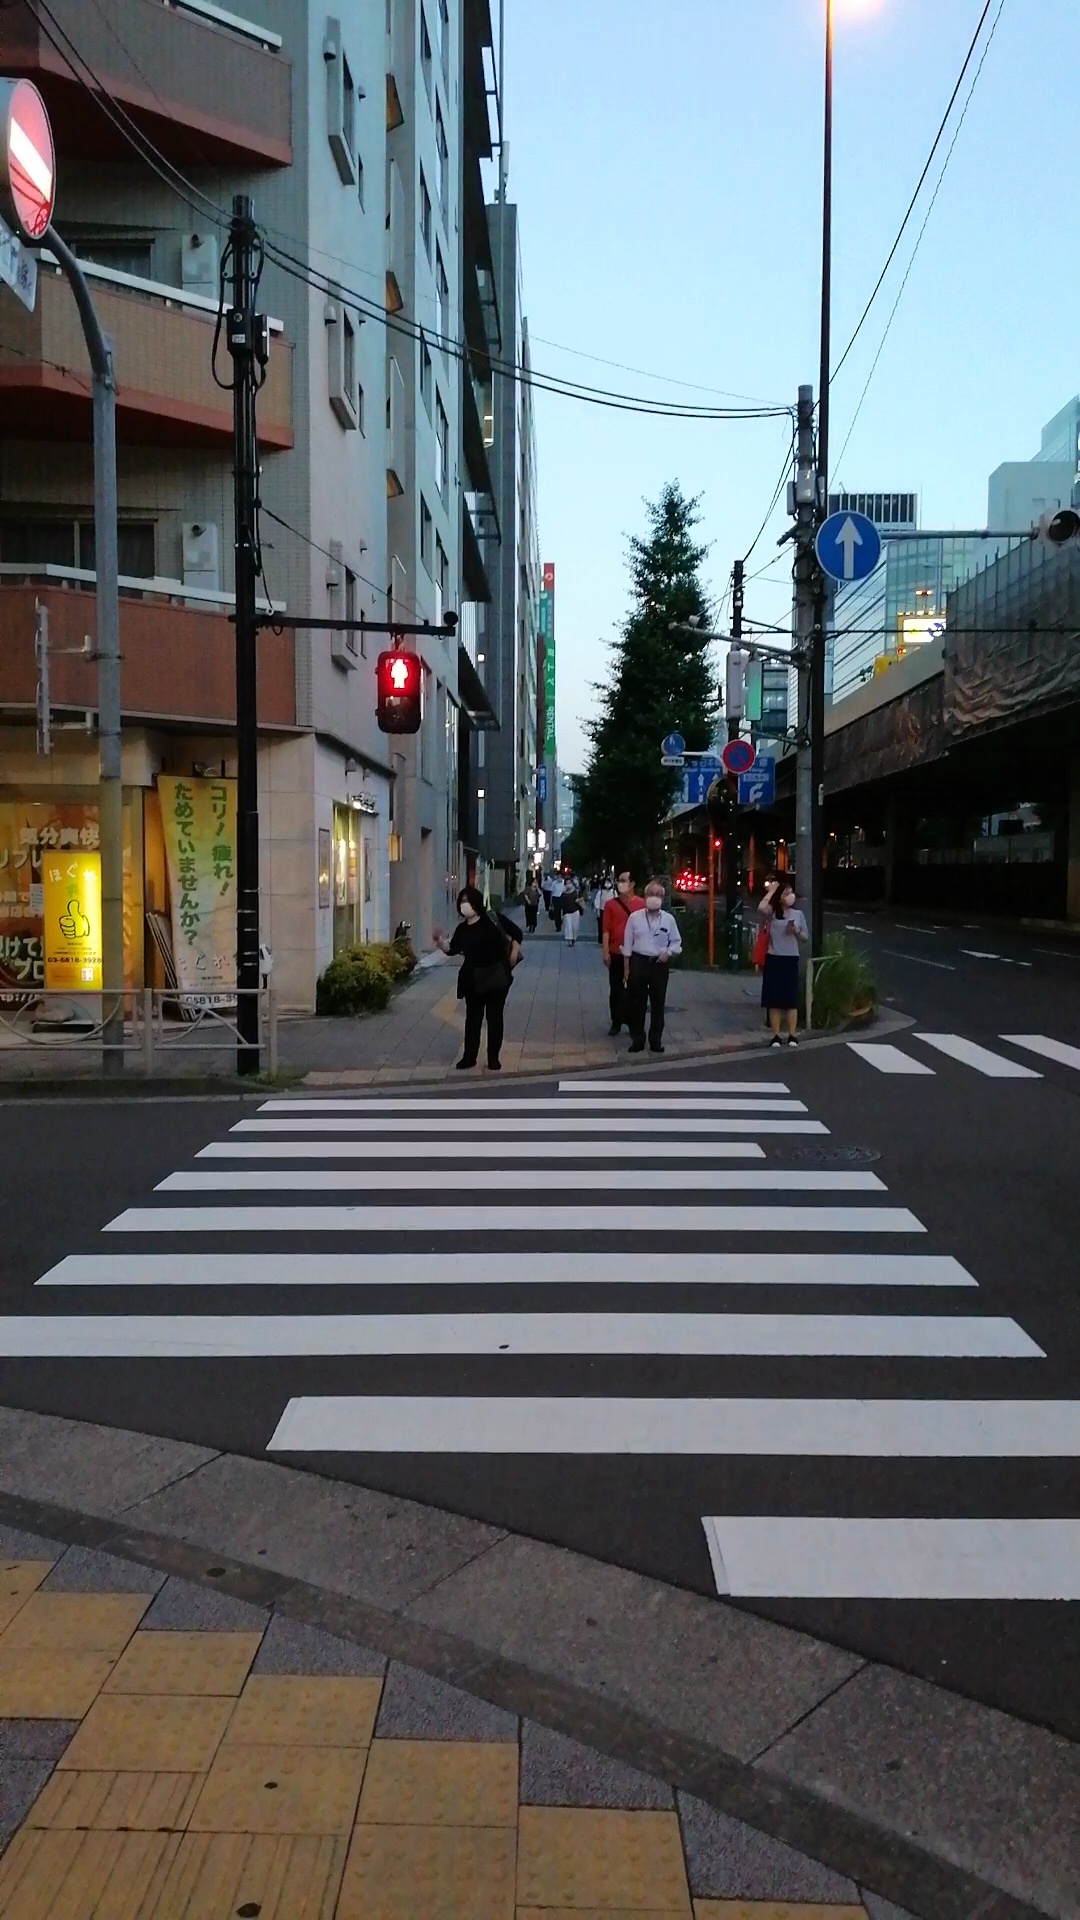red: (375, 651, 421, 735)
